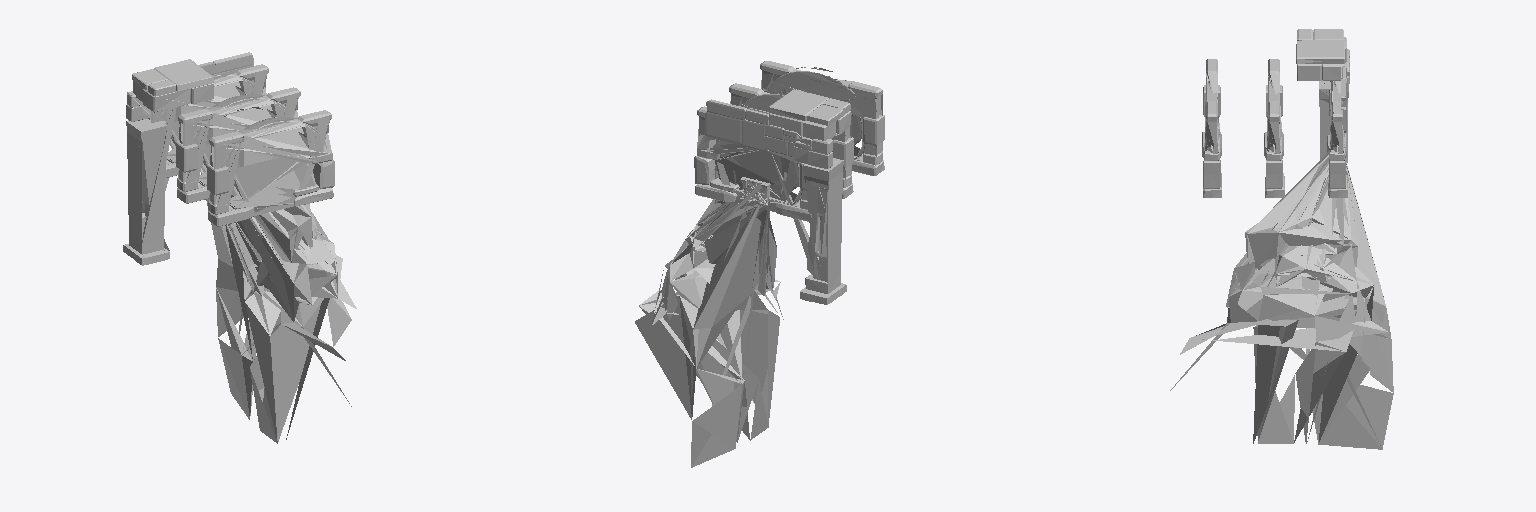
Rendered from cellDesert_WaystationTempleEndInside_Proxy-sharedassets3.assets-582.obj.
3 renders of one model, left to right at view 1: azimuth 30°, elevation 25°; view 2: azimuth 150°, elevation 25°; view 3: azimuth 270°, elevation 25°, orthographic.
Parts seen in each view (by area): view 1: cellDesert_WaystationTempleEndInside_Proxy_0, cellDesert_WaystationTempleEndInside_Proxy_2, cellDesert_WaystationTempleEndInside_Proxy_1; view 2: cellDesert_WaystationTempleEndInside_Proxy_0, cellDesert_WaystationTempleEndInside_Proxy_2, cellDesert_WaystationTempleEndInside_Proxy_1; view 3: cellDesert_WaystationTempleEndInside_Proxy_0, cellDesert_WaystationTempleEndInside_Proxy_2, cellDesert_WaystationTempleEndInside_Proxy_1.
Boxes of the visible parts, x1=… form: cellDesert_WaystationTempleEndInside_Proxy_0: x1=123, y1=66, x2=356, y2=443; cellDesert_WaystationTempleEndInside_Proxy_2: x1=123, y1=52, x2=334, y2=265; cellDesert_WaystationTempleEndInside_Proxy_1: x1=126, y1=52, x2=253, y2=265; cellDesert_WaystationTempleEndInside_Proxy_0: x1=635, y1=61, x2=882, y2=467; cellDesert_WaystationTempleEndInside_Proxy_2: x1=694, y1=61, x2=884, y2=304; cellDesert_WaystationTempleEndInside_Proxy_1: x1=707, y1=89, x2=849, y2=304; cellDesert_WaystationTempleEndInside_Proxy_0: x1=1170, y1=46, x2=1393, y2=449; cellDesert_WaystationTempleEndInside_Proxy_2: x1=1202, y1=29, x2=1349, y2=197; cellDesert_WaystationTempleEndInside_Proxy_1: x1=1296, y1=29, x2=1349, y2=157.
Size of the model in its own units: 88.75 by 161 by 90.84.